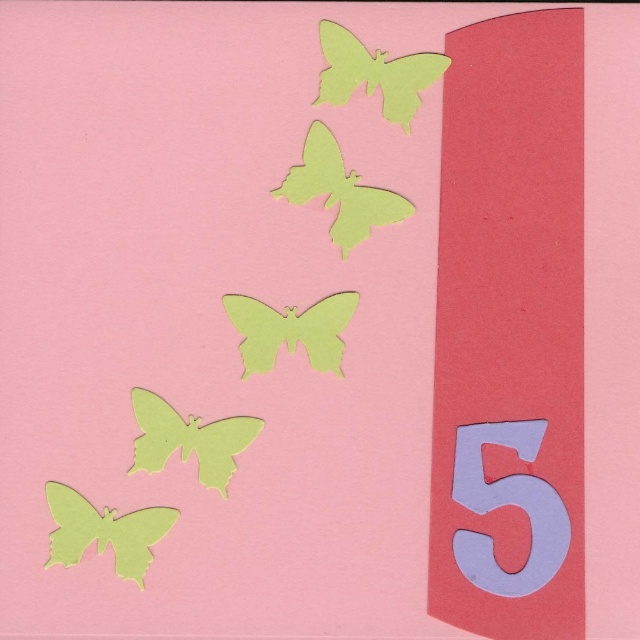Butterfly: (268, 118, 413, 263), (308, 19, 451, 134), (41, 479, 182, 594), (127, 383, 264, 500), (217, 283, 365, 384)
